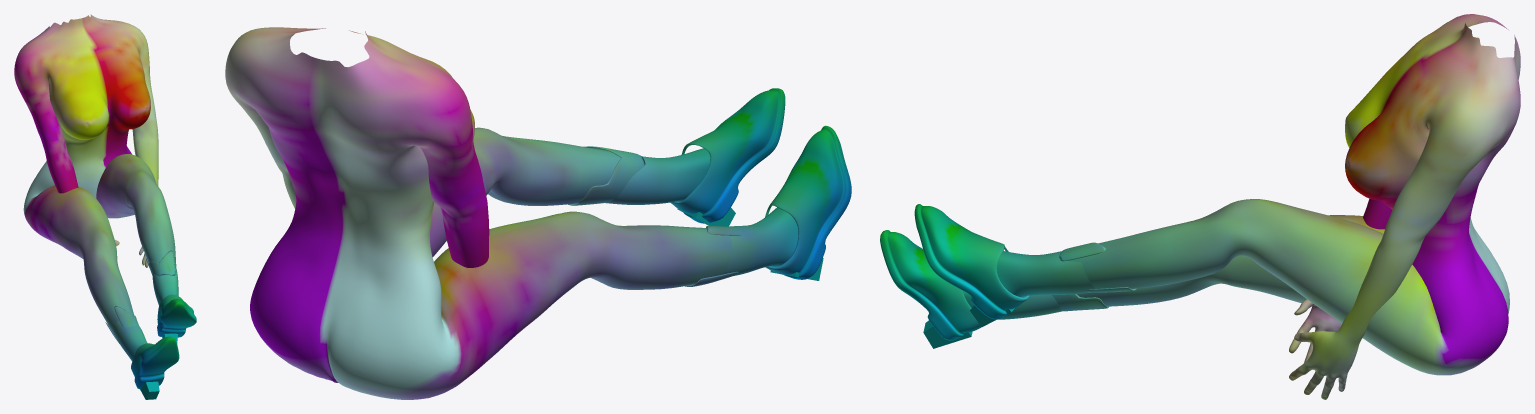
File: lounge-legs.glb
The picture shows the model from 3 angles, left to right: view 1: azimuth 30°, elevation 25°; view 2: azimuth 150°, elevation 25°; view 3: azimuth 270°, elevation 25°; orthographic projection. The views are drawn at different scales.
Parts seen in each view (by area): view 1: Human_baked, Human.shoes03_baked, shaft_baked, heel.R_baked; view 2: Human_baked, Human.shoes03_baked, shaft_baked; view 3: Human_baked, Human.shoes03_baked, shaft_baked.
Part boxes in pixels (x1,y1,x2,y2): Human_baked: (14,14,176,331); Human.shoes03_baked: (112,267,196,389); shaft_baked: (105,250,175,343); heel.R_baked: (140,381,159,399); Human_baked: (225,27,732,399); Human.shoes03_baked: (606,88,851,279); shaft_baked: (568,146,742,286); Human_baked: (1067,14,1520,399); Human.shoes03_baked: (880,204,1095,340); shaft_baked: (1052,242,1136,311).
Bounding box in the file's own units: 0.5576 × 0.7517 × 1.1.
